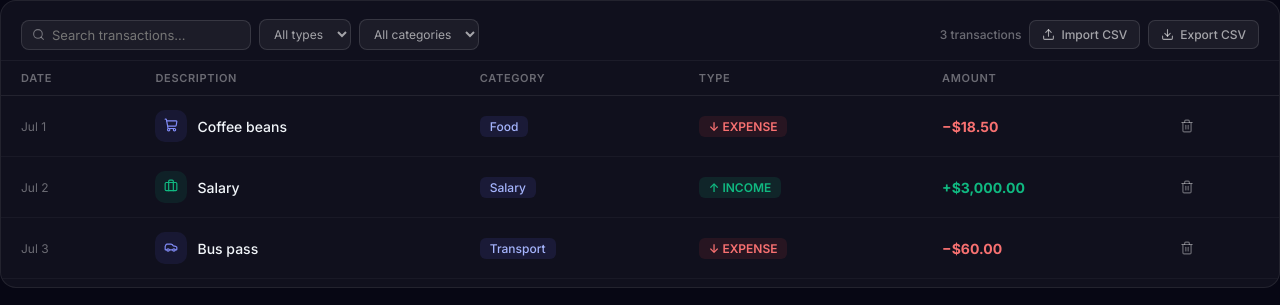
Test: TransactionTable filters › shows an empty state when nothing matches
The image size is (1280, 305).
Type "zzzzz" into the field with placeholder "Search transactions…" at point(146, 34), box [52,26,240,42]
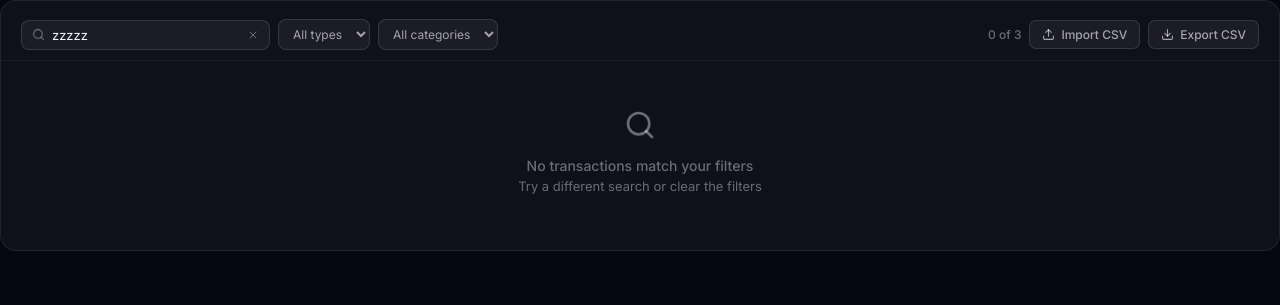
Check: the text "No transactions match your filters" is shown, box [527,157,753,174]
